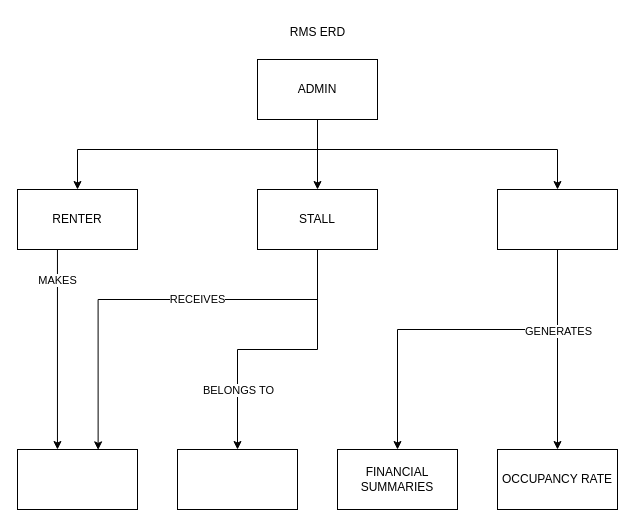
Image size: 635x527. Some labels were removed from this diagram. Here are the shapes that lost their labels. From the top down, the box of each, then its label:
(496, 188, 618, 250): REPORT
(16, 448, 138, 510): PAYMENT
(176, 448, 298, 510): STALL TYPE
